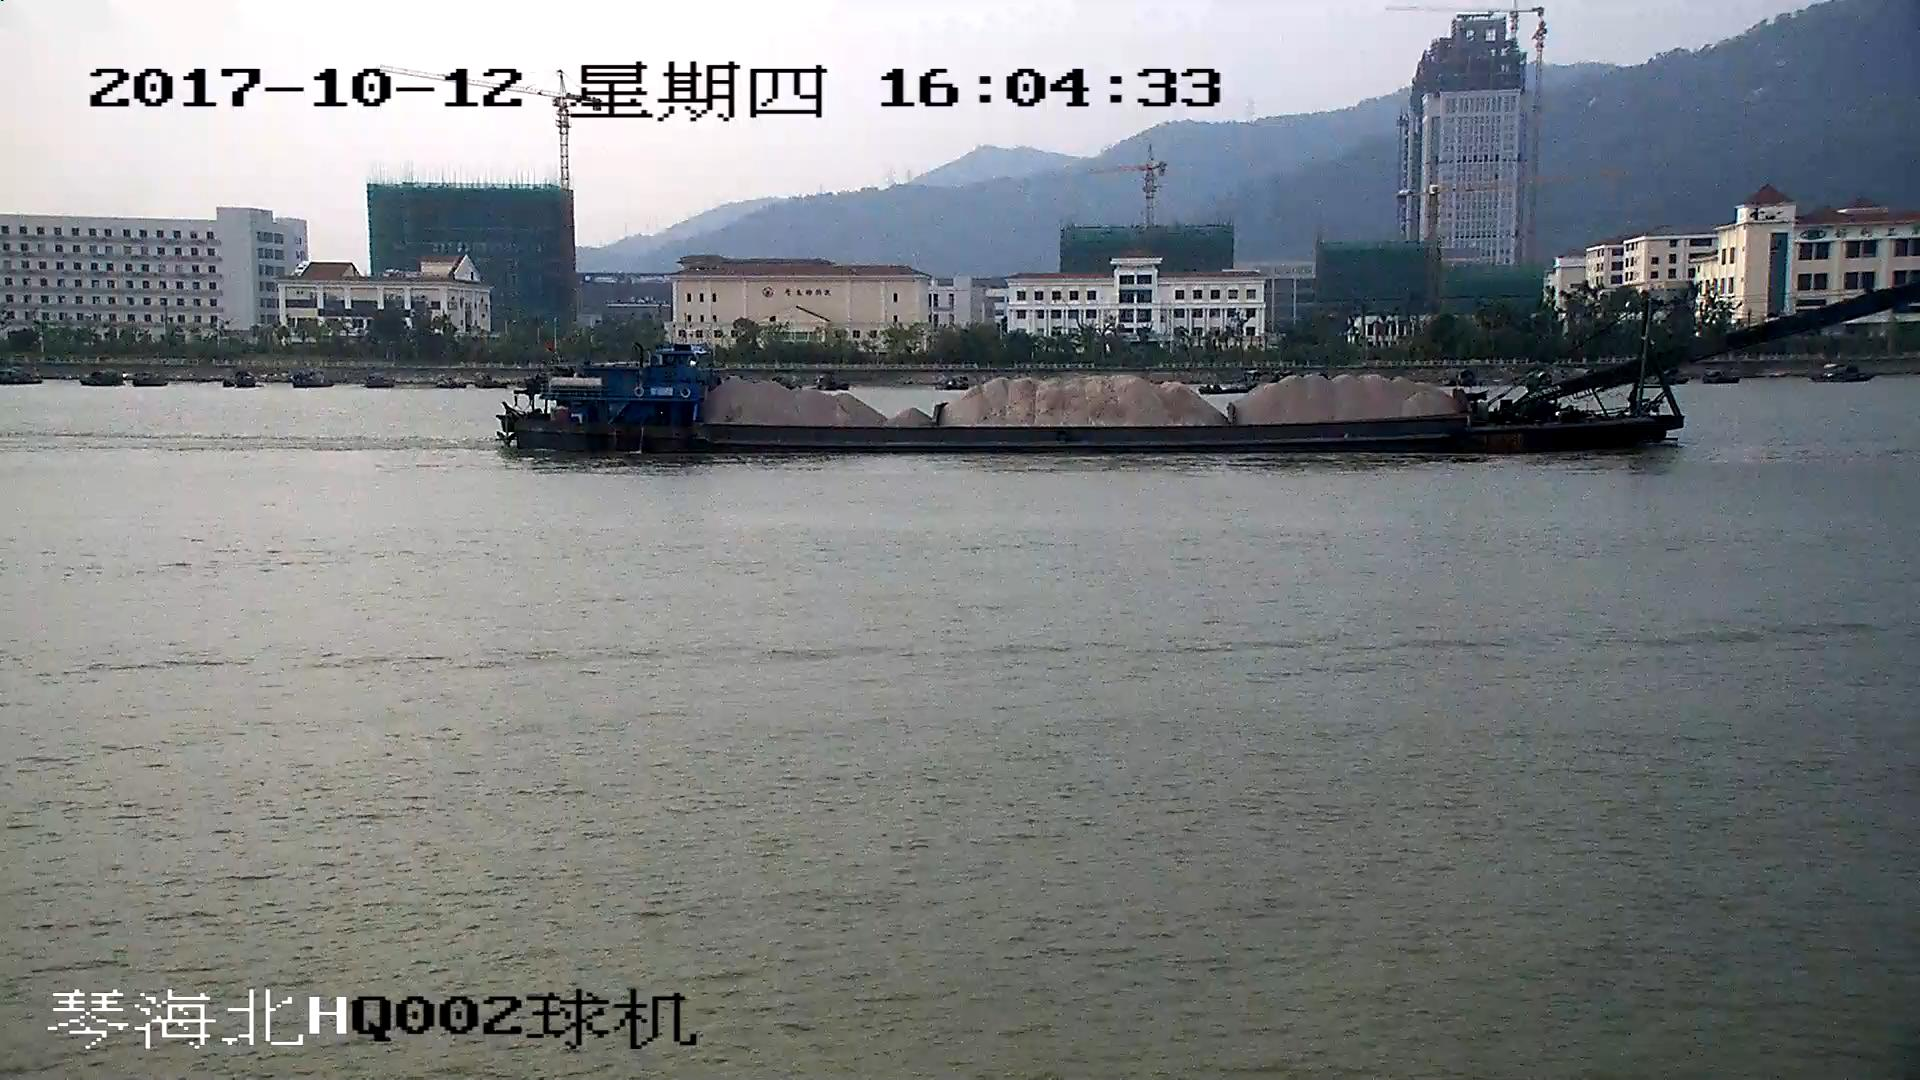ore carrier: (501, 287, 1920, 455)
